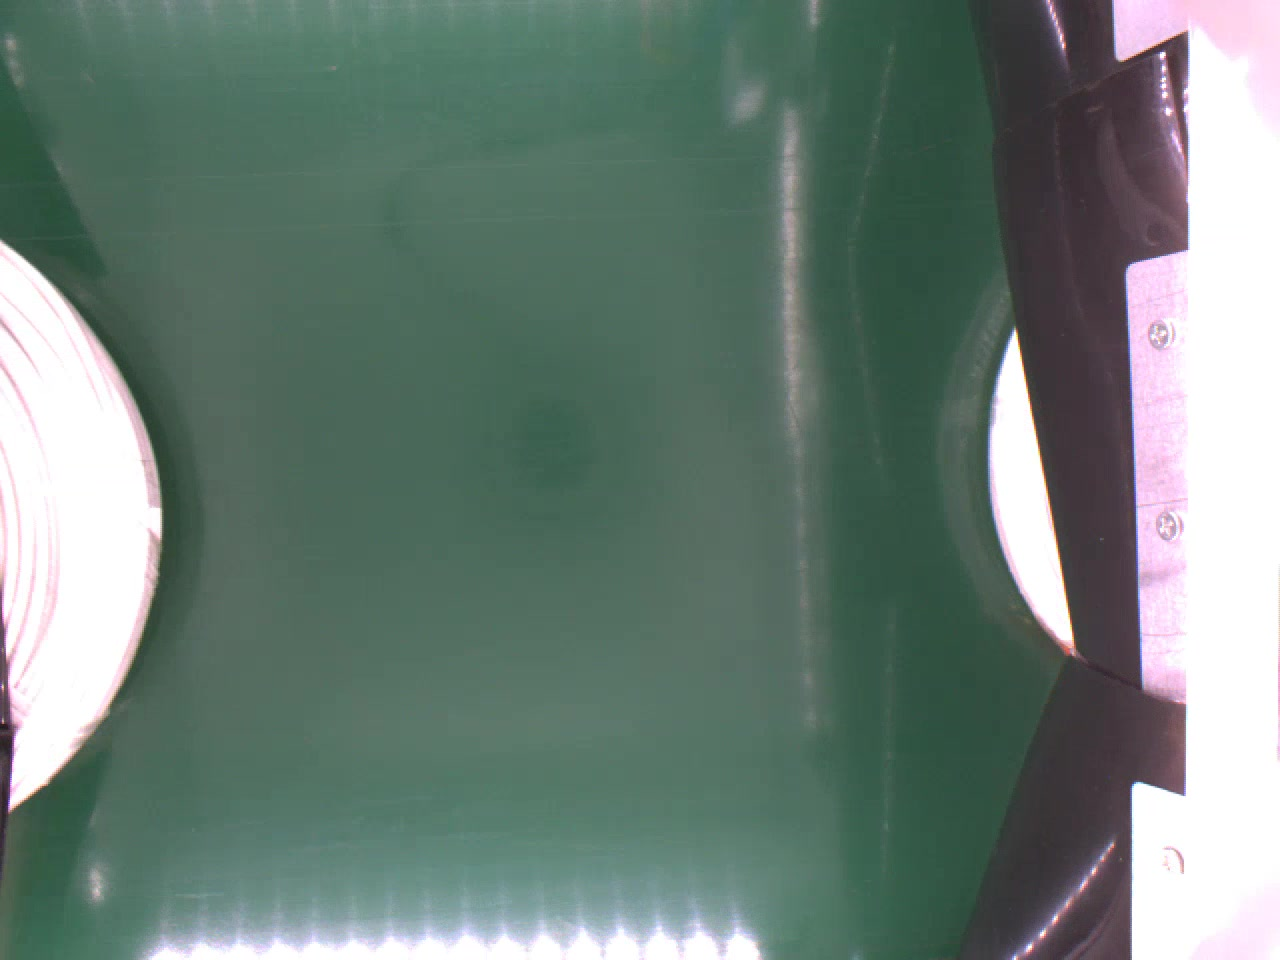white: (0, 241, 161, 810)
